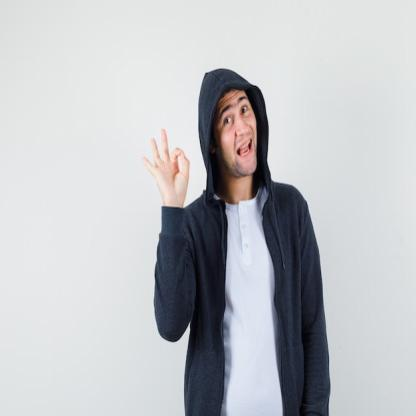ok: (139, 127, 194, 212)
